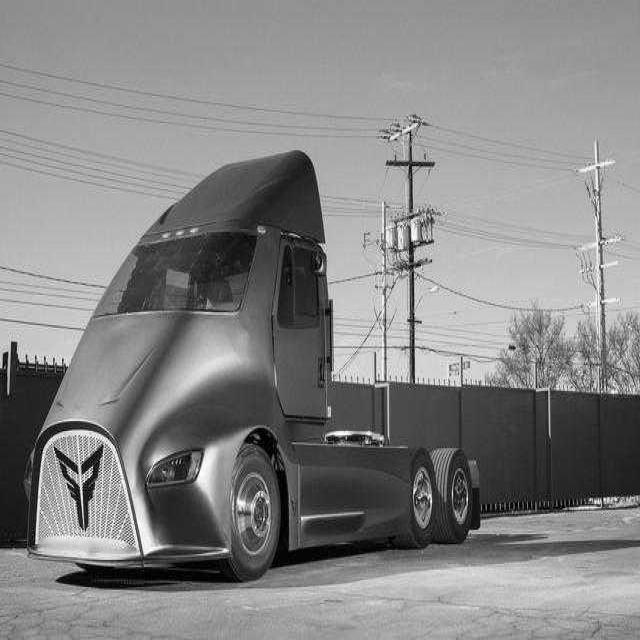Pole: (381, 116, 435, 384), (579, 140, 615, 391)
Truck: (23, 146, 487, 569)
